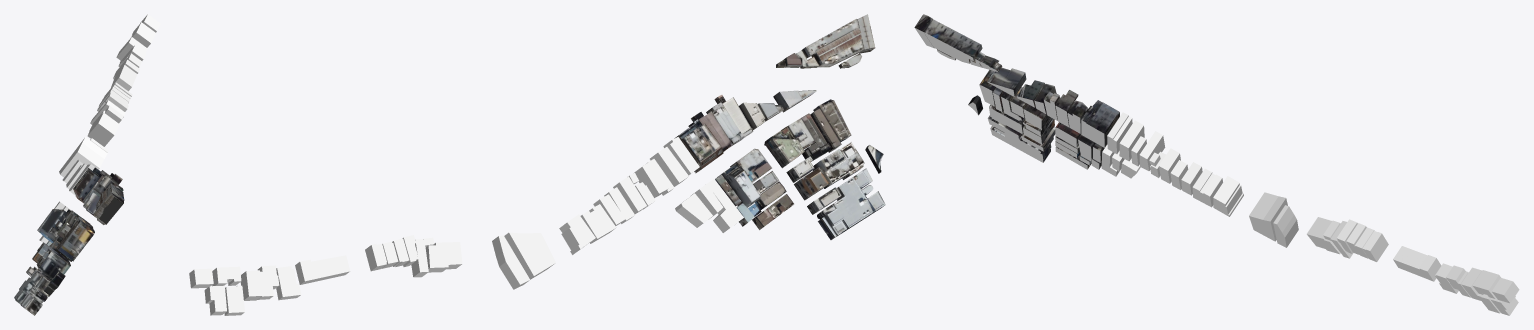
Rendered from data61.glb.
3 views of the same model, side by side, from view 1: azimuth 30°, elevation 25°; view 2: azimuth 150°, elevation 25°; view 3: azimuth 270°, elevation 25° (orthographic). The views are drawn at different scales.
Bounding box in the file's own units: 193 × 74.43 × 253.
Materials: 2 (1 with a texture image).
